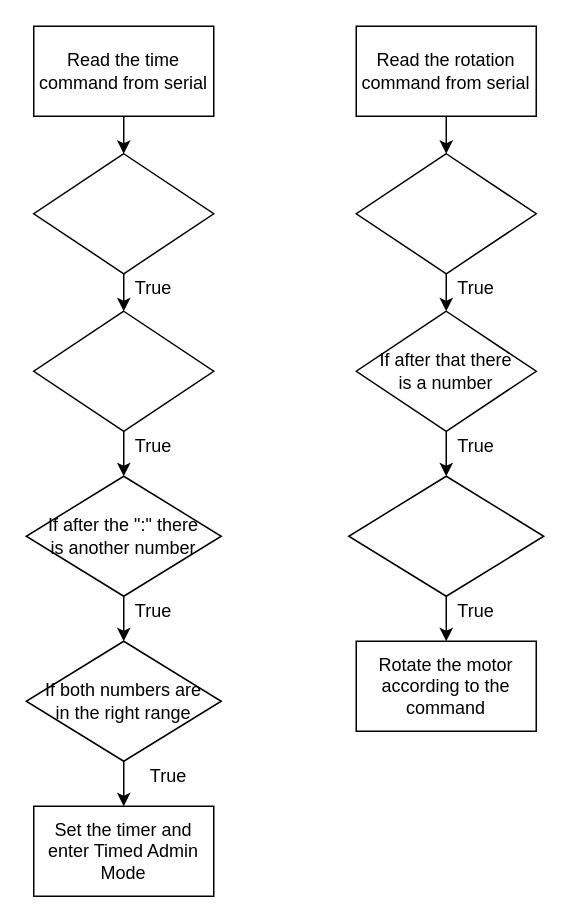
The diagram is 570 pixels wide and 923 high, and some of its shapes have lost their labels. The centre of each missing label's shape, as x and y in pixels:
If after the number there is a ":": pixel 123 370
If it ends with "_CW" or "_CCW": pixel 445 535
If it starts with "ROT_": pixel 445 213
If it starts with a number: pixel 123 213
